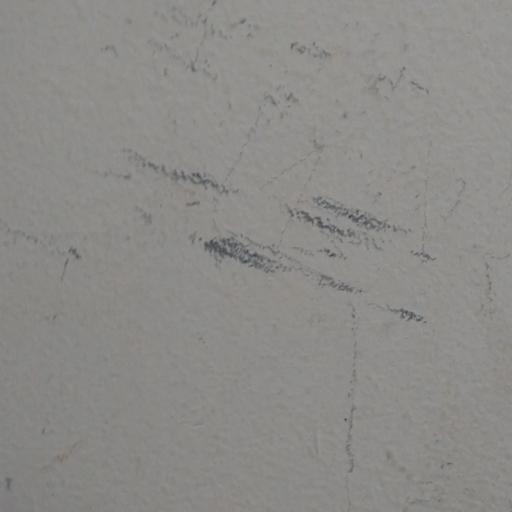stain: (90, 0, 512, 349)
